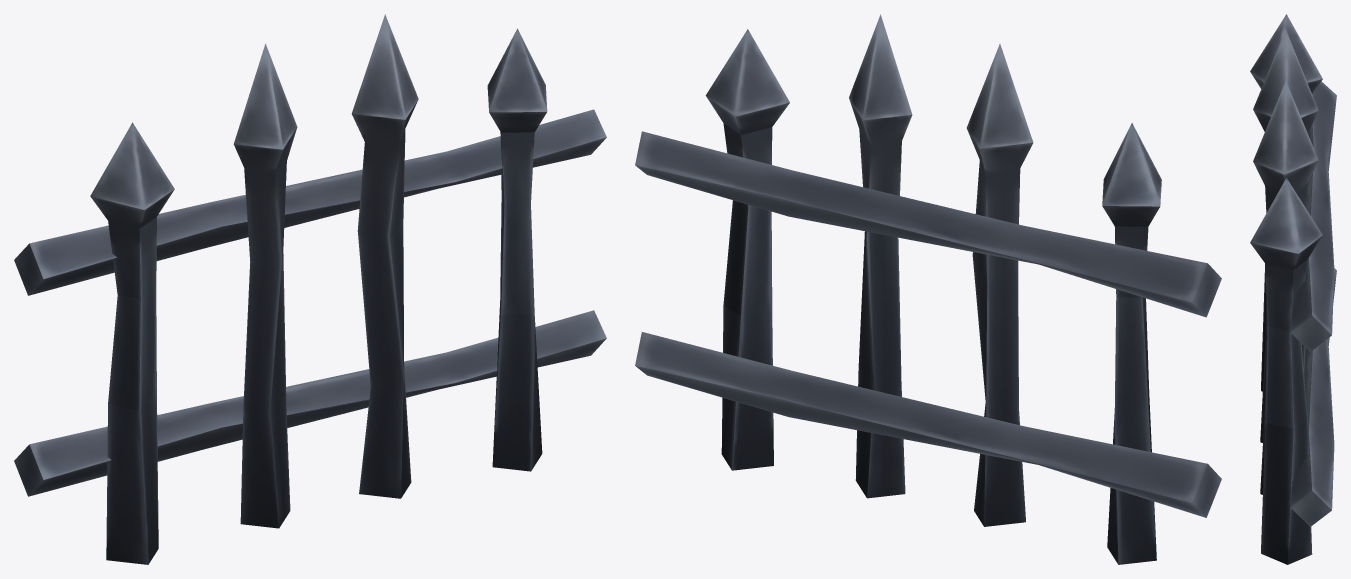
Rendered from Vampire_Village_Props_15.FBX.
3 renders of one model, left to right at view 1: azimuth 30°, elevation 25°; view 2: azimuth 150°, elevation 25°; view 3: azimuth 270°, elevation 25°, orthographic. The views are drawn at different scales.
Parts seen in each view (by area): view 1: Vampire_Village_Props_15; view 2: Vampire_Village_Props_15; view 3: Vampire_Village_Props_15.
Boxes of the visible parts, box(x1,y1,x2,y2) form: Vampire_Village_Props_15: box(14, 14, 606, 564); Vampire_Village_Props_15: box(635, 14, 1221, 564); Vampire_Village_Props_15: box(1250, 14, 1336, 564).
Bounding box in the file's own units: 180 × 145 × 27.41.
